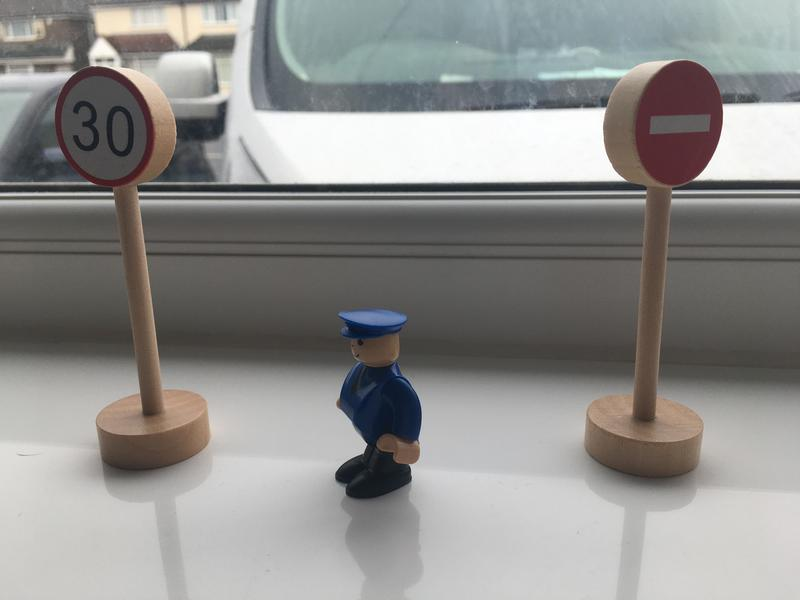Traffic_Sign_30: (56, 67, 154, 184)
Traffic_Sign_No_Entry: (635, 59, 722, 187)
person: (331, 308, 424, 502)
